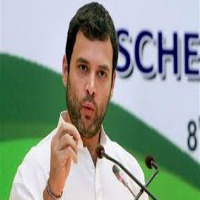ring: (57, 133, 78, 152)
